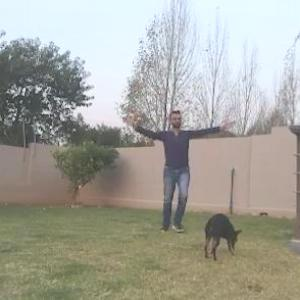takeoff: (128, 92, 246, 241)
